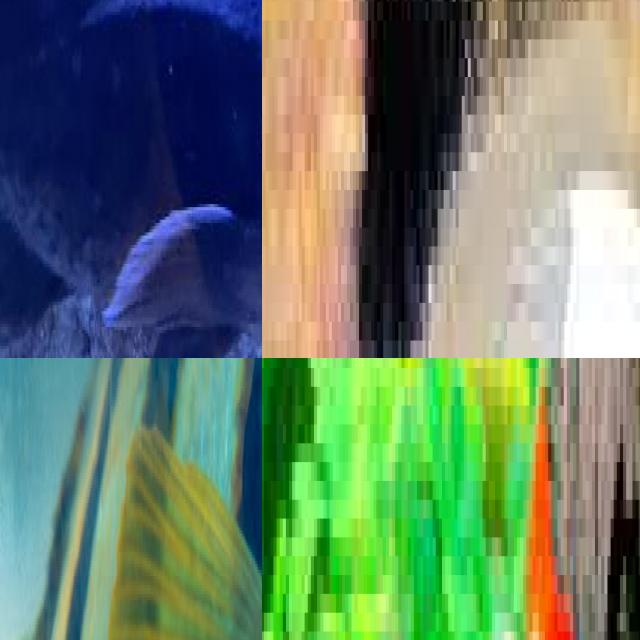fish: (0, 0, 262, 358), (386, 358, 640, 640), (16, 358, 262, 640)
